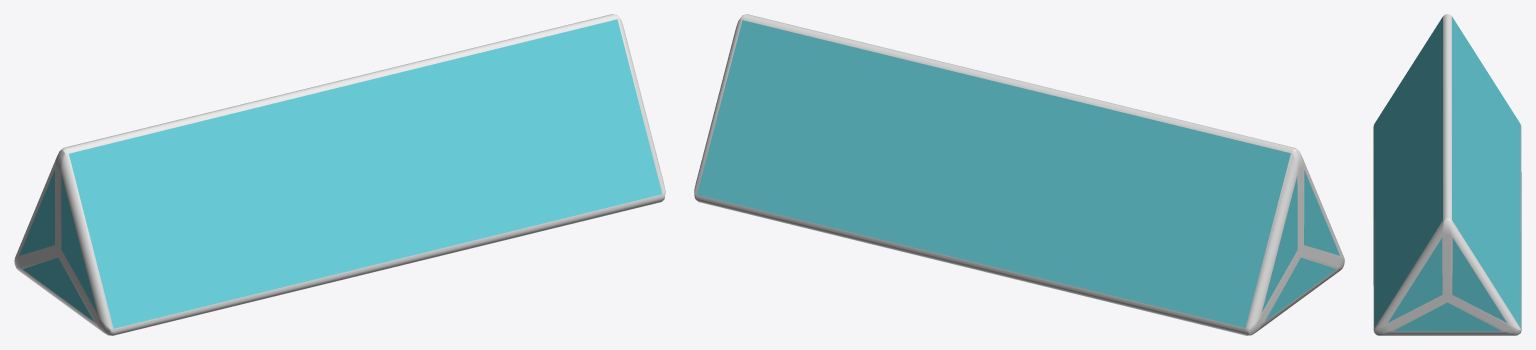
Rendered from Tile6.fbx.
The picture shows the model from 3 angles, left to right: view 1: azimuth 30°, elevation 25°; view 2: azimuth 150°, elevation 25°; view 3: azimuth 270°, elevation 25°; orthographic projection. The views are drawn at different scales.
Parts seen in each view (by area): view 1: m6; view 2: m6; view 3: m6.
Boxes of the visible parts, bbox=[...] form: m6: bbox=[14, 14, 665, 335]; m6: bbox=[694, 14, 1344, 335]; m6: bbox=[1373, 14, 1521, 335].
Size of the model in its own units: 13.6 by 3.56 by 4.07.
